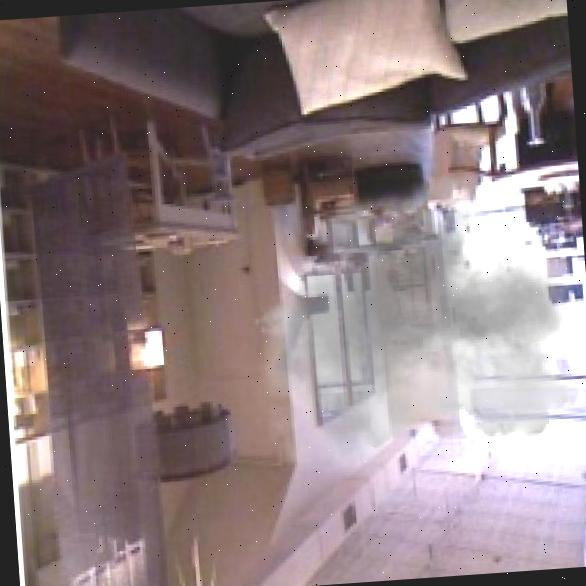smoke: (230, 146, 586, 529)
